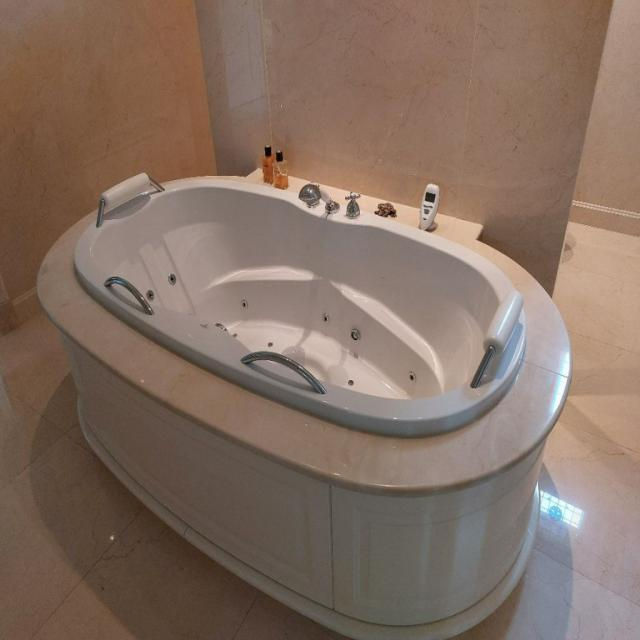bath: (76, 171, 528, 440)
